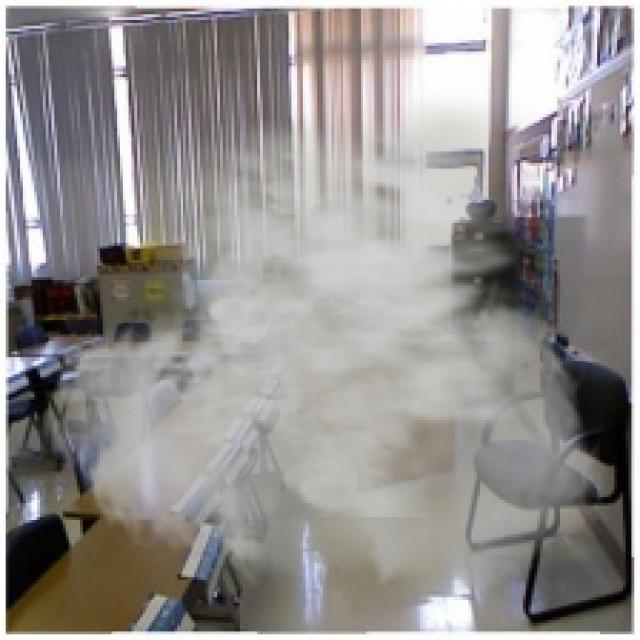smoke: (46, 88, 608, 603)
